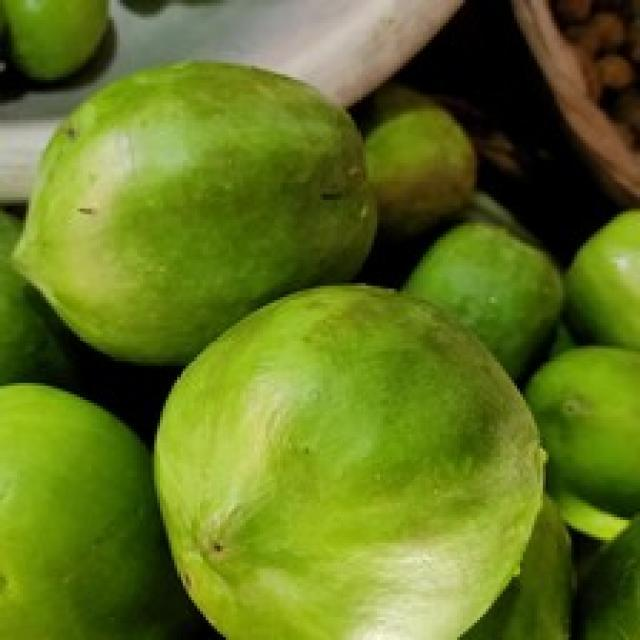Pepaya unrippen: (137, 284, 562, 640), (19, 61, 406, 363)
